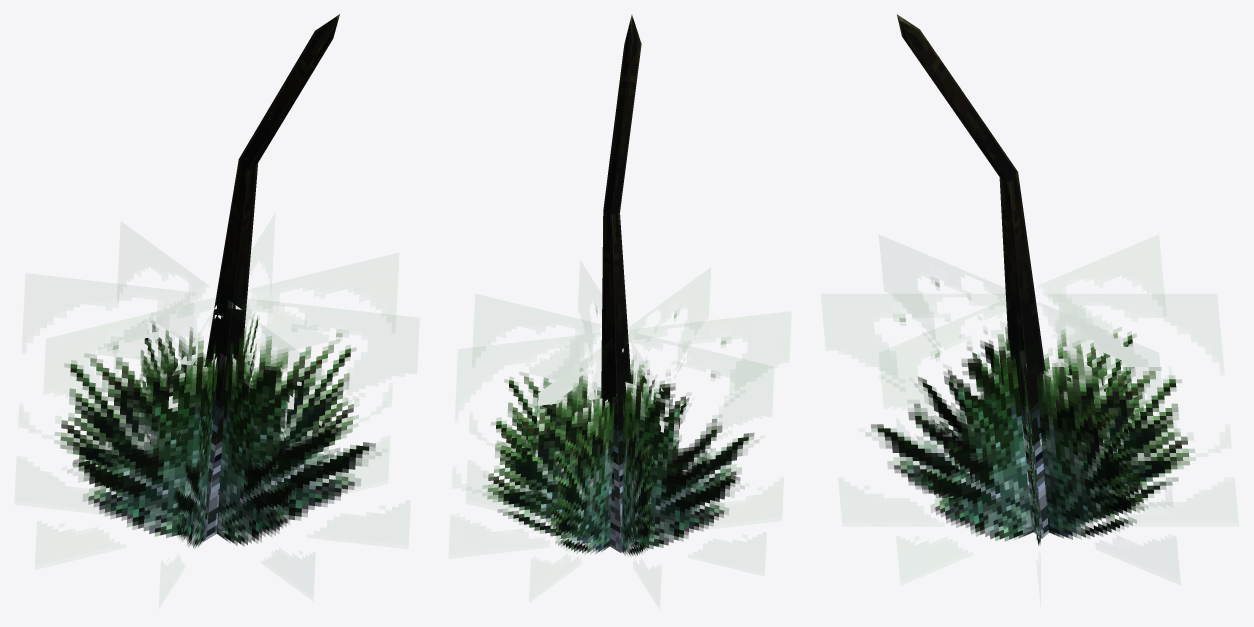
Rendered from Environment - Debris and Ruins - Rubble Mound - Debris - PMYakaSnw_d.glb.
The picture shows the model from 3 angles, left to right: view 1: azimuth 30°, elevation 25°; view 2: azimuth 150°, elevation 25°; view 3: azimuth 270°, elevation 25°; orthographic projection. The views are drawn at different scales.
Visible parts, largest first — view 1: PMYAKASNW_D; view 2: PMYAKASNW_D; view 3: PMYAKASNW_D.
Boxes of the visible parts, left/top/right/bottom form: PMYAKASNW_D: left=54, top=14, right=395, bottom=548; PMYAKASNW_D: left=472, top=14, right=773, bottom=556; PMYAKASNW_D: left=866, top=14, right=1195, bottom=545.
Size of the model in its own units: 10.94 by 16.51 by 11.56.
Materials: 1 (1 with a texture image).
